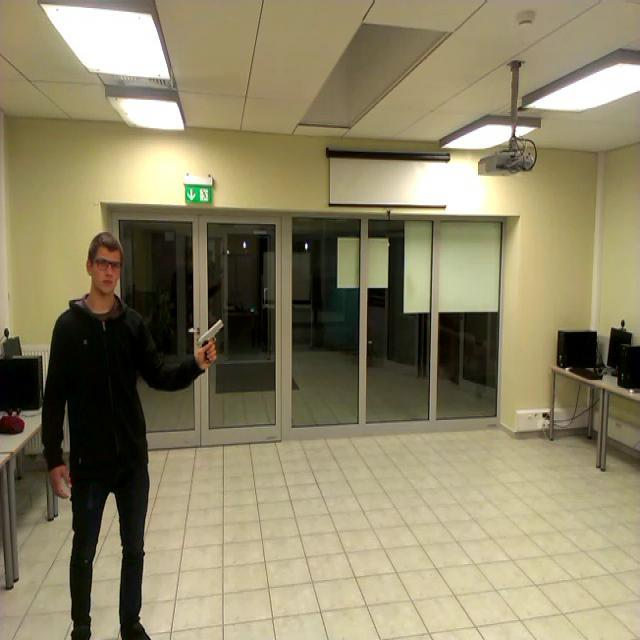Gun: (200, 318, 225, 363)
